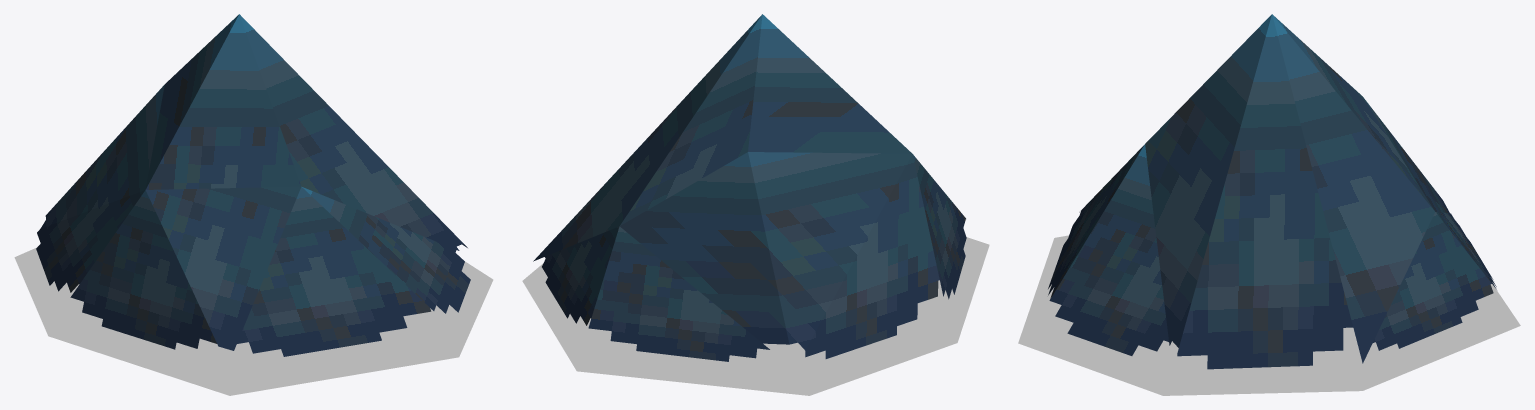
The model's file is d6rock01.dae.
The picture shows the model from 3 angles, left to right: view 1: azimuth 30°, elevation 25°; view 2: azimuth 150°, elevation 25°; view 3: azimuth 270°, elevation 25°; orthographic projection. The views are drawn at different scales.
Visible parts, largest first — view 1: d6rock01; view 2: d6rock01; view 3: d6rock01.
Boxes of the visible parts, x1=… form: d6rock01: x1=14, y1=14, x2=493, y2=395; d6rock01: x1=522, y1=14, x2=989, y2=395; d6rock01: x1=1018, y1=14, x2=1520, y2=395.
Bounding box in the file's own units: 39.74 × 26.71 × 43.19.
